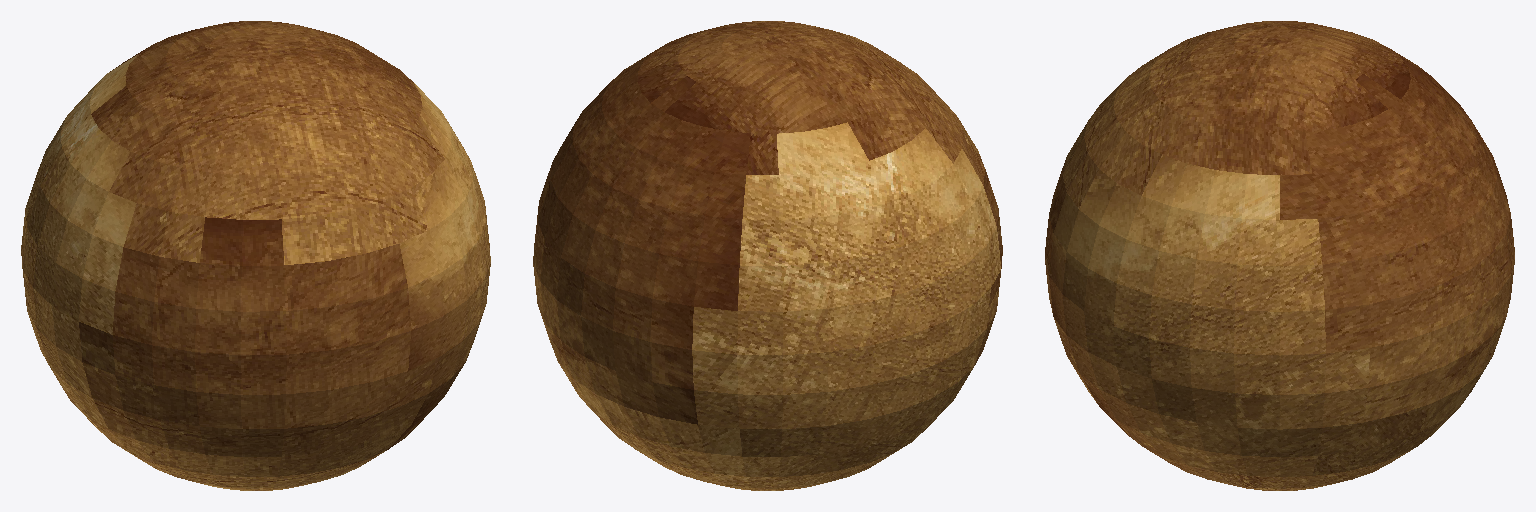
3 views of the same model, side by side, from view 1: azimuth 30°, elevation 25°; view 2: azimuth 150°, elevation 25°; view 3: azimuth 270°, elevation 25° (orthographic).
Visible parts, largest first — view 1: Sphere; view 2: Sphere; view 3: Sphere.
Boxes of the visible parts, box(x1,y1,x2,y2) form: Sphere: box(21, 21, 490, 490); Sphere: box(533, 21, 1002, 490); Sphere: box(1045, 21, 1514, 490).
Bounding box in the file's own units: 1.37 × 1.37 × 1.37.
Materials: 1 (1 with a texture image).